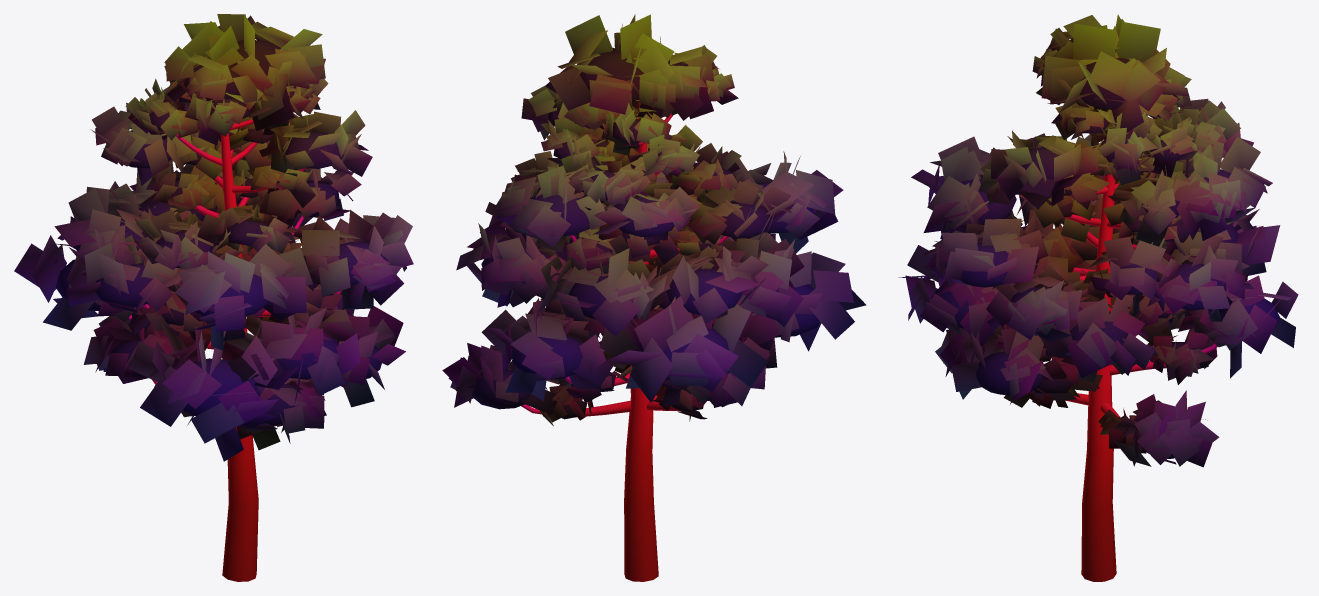
The model's file is Pine_B.fbx.
The picture shows the model from 3 angles, left to right: view 1: azimuth 30°, elevation 25°; view 2: azimuth 150°, elevation 25°; view 3: azimuth 270°, elevation 25°; orthographic projection.
Parts seen in each view (by area): view 1: Pine_B_LOD0; view 2: Pine_B_LOD0; view 3: Pine_B_LOD0.
Part boxes in pixels (x1=…): Pine_B_LOD0: x1=14, y1=14, x2=413, y2=581; Pine_B_LOD0: x1=442, y1=14, x2=866, y2=581; Pine_B_LOD0: x1=898, y1=14, x2=1298, y2=581.
Size of what is drawn, in the model's own units: 10.79 by 17.65 by 11.84.
